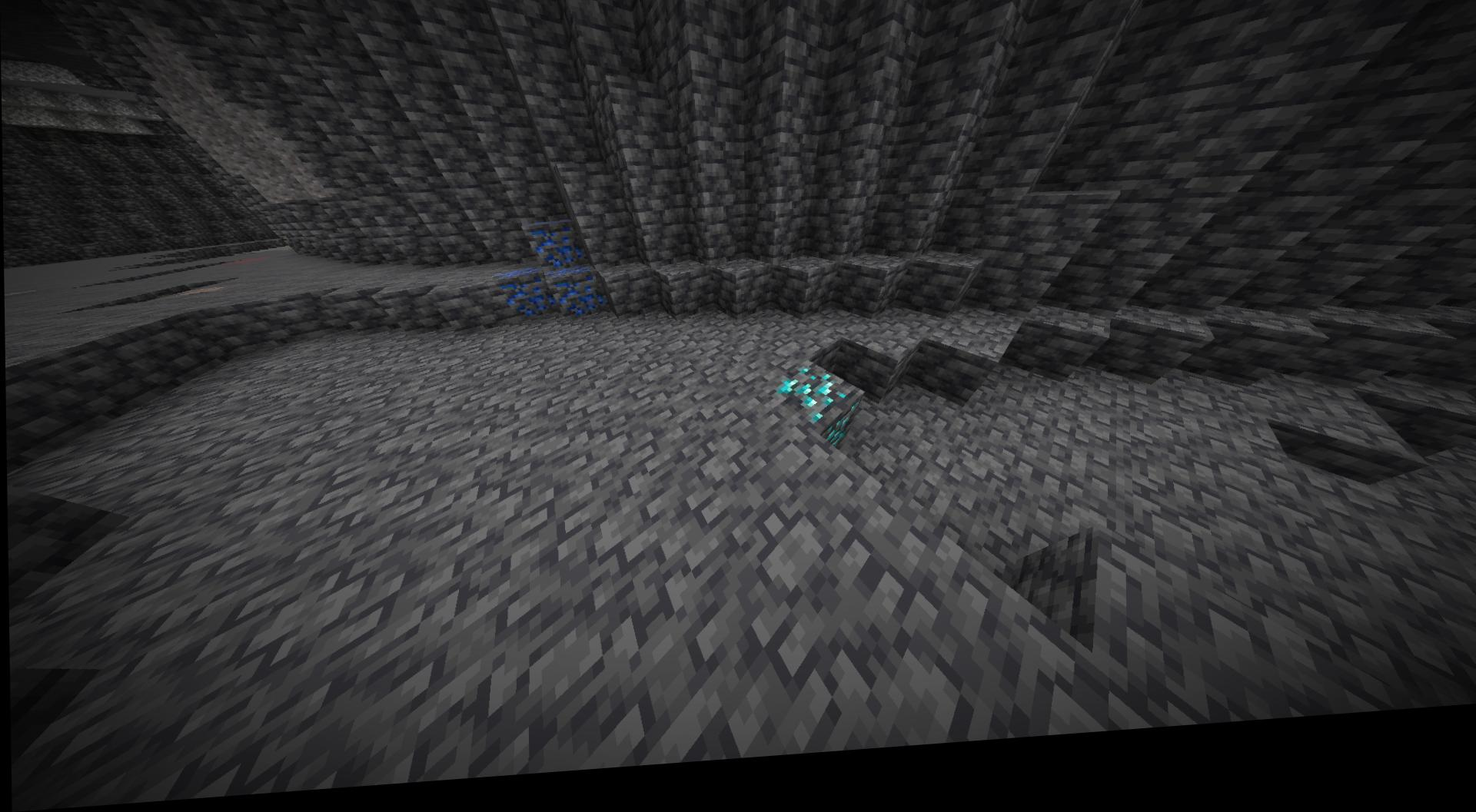diamond ore: (776, 374, 858, 459)
